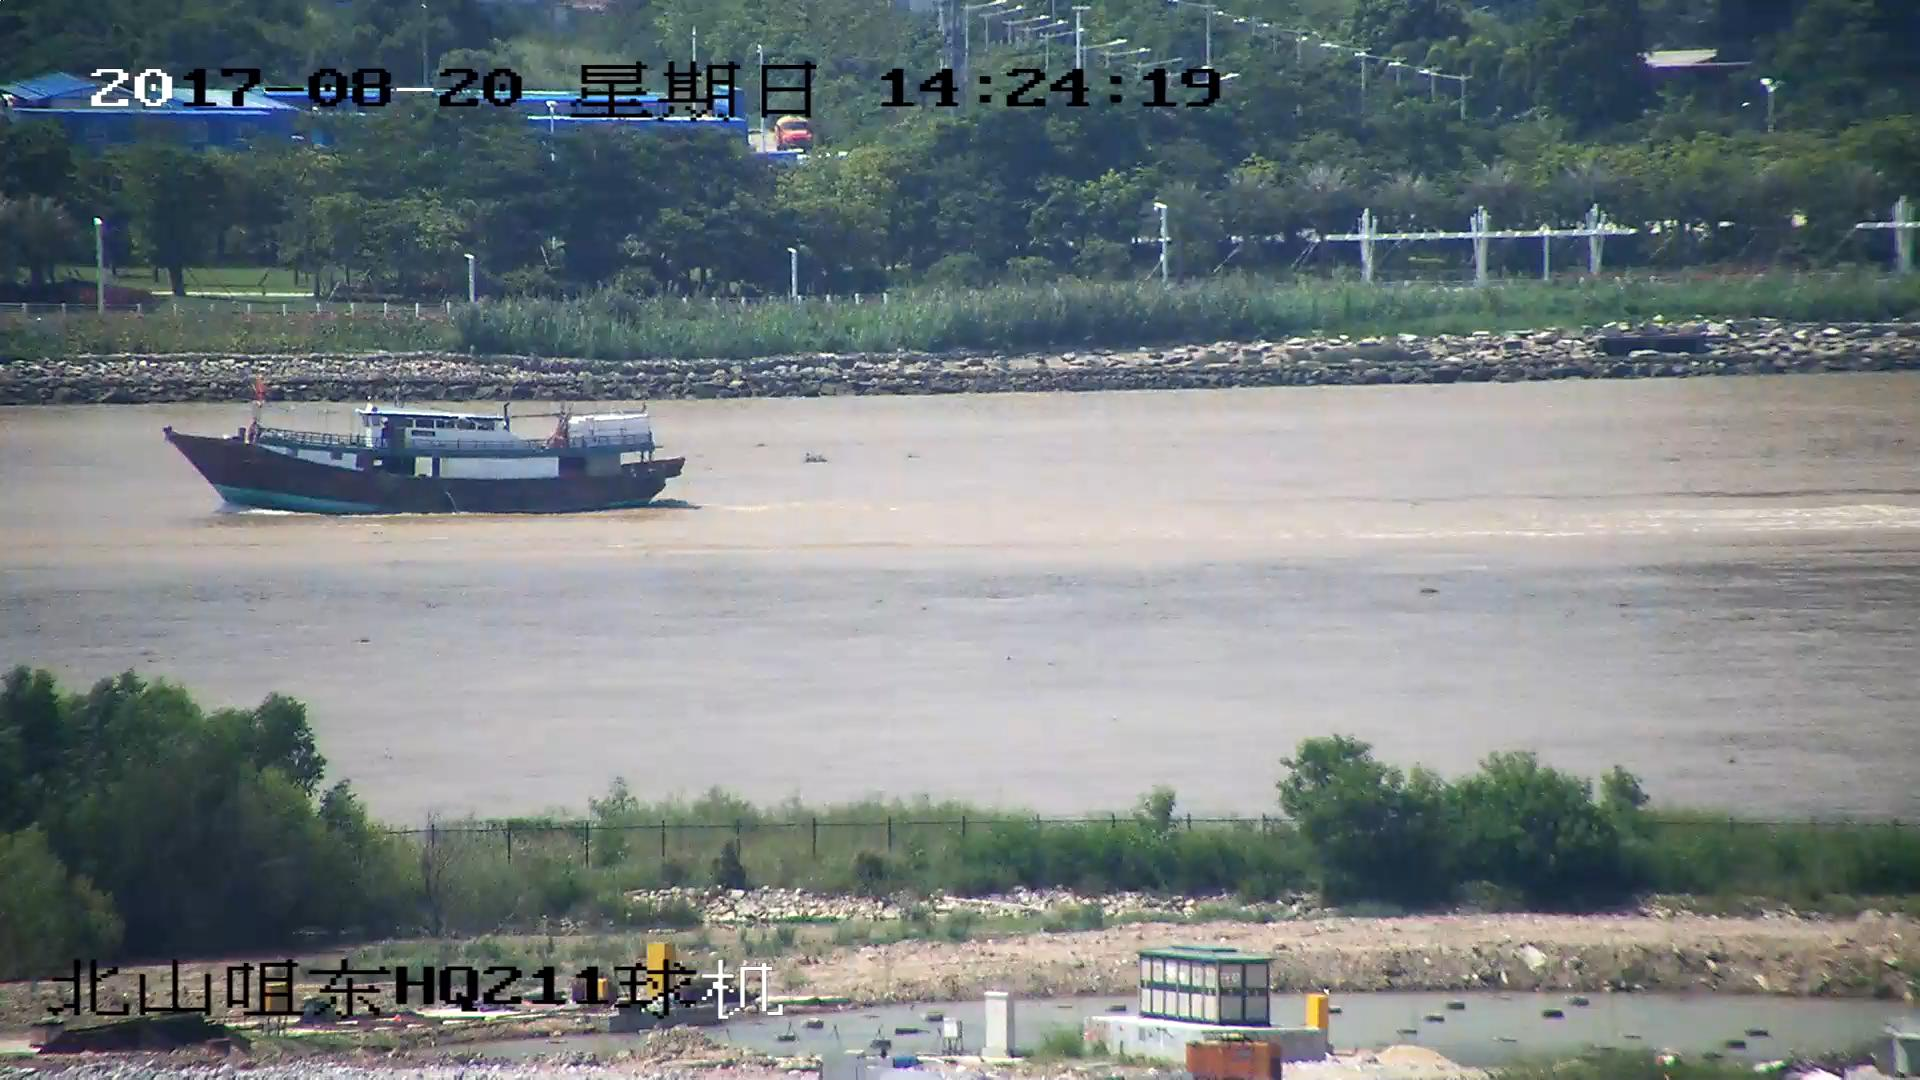fishing boat: (161, 395, 688, 515)
